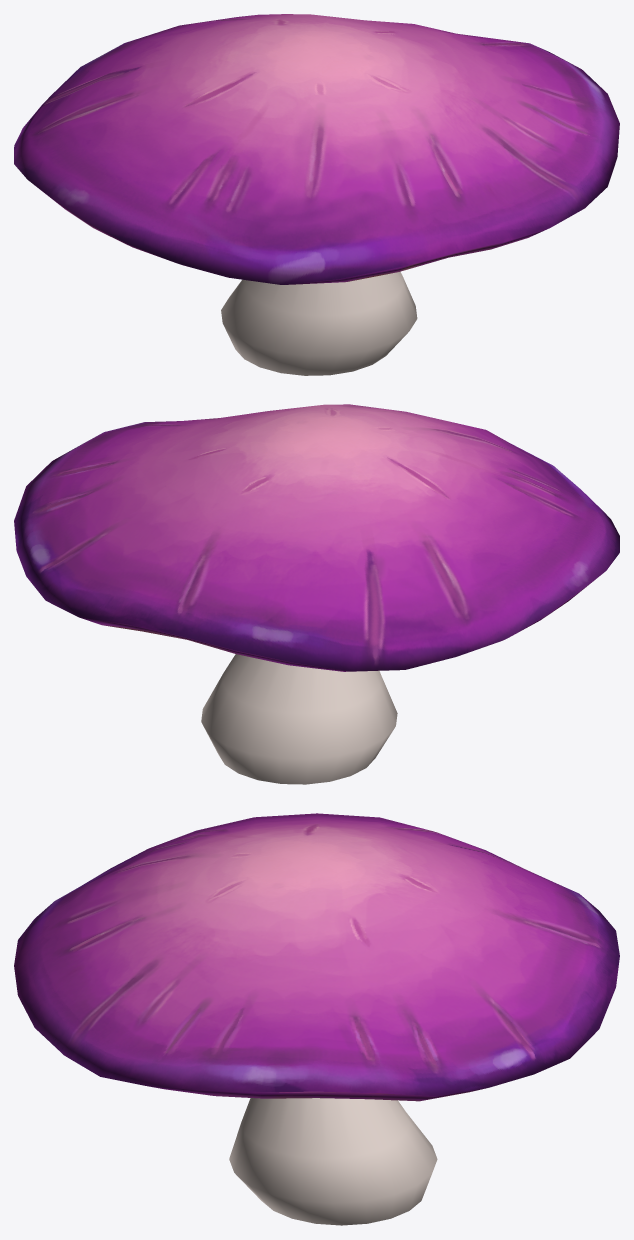
File: newredmushroom.fbx
3 renders of one model, top to bottom at view 1: azimuth 30°, elevation 25°; view 2: azimuth 150°, elevation 25°; view 3: azimuth 270°, elevation 25°, orthographic. The views are drawn at different scales.
Parts seen in each view (by area): view 1: polySurface16, polySurface17; view 2: polySurface16, polySurface17; view 3: polySurface16, polySurface17.
Boxes of the visible parts, <box> form: polySurface16: <box>14,14,619,284</box>; polySurface17: <box>221,271,417,375</box>; polySurface16: <box>14,404,619,671</box>; polySurface17: <box>201,654,397,784</box>; polySurface16: <box>14,813,619,1101</box>; polySurface17: <box>229,1098,437,1225</box>.
Size of the model in its own units: 4.2 by 2.34 by 3.95.
Materials: 2 (1 with a texture image).
